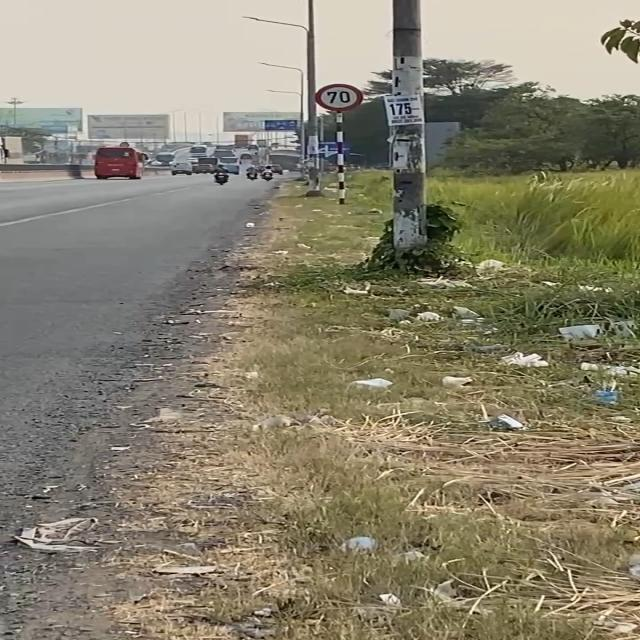127-toc-do-toi-da-70: (316, 82, 364, 111)
